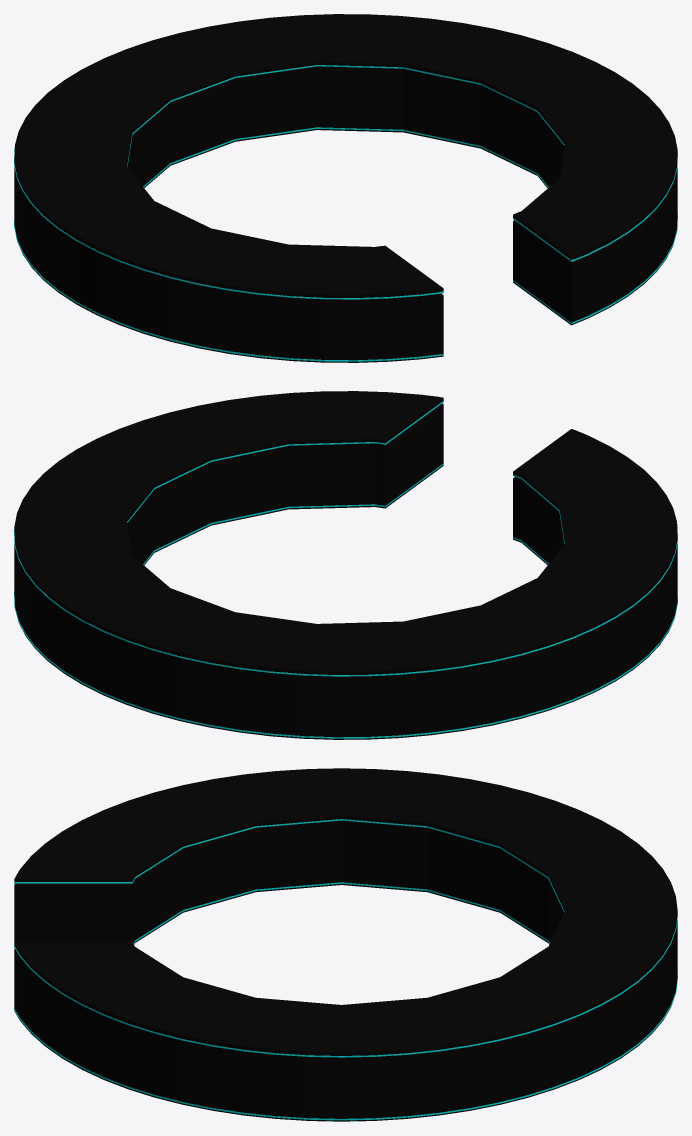
File: CircleTable.a93f86d6.dae
3 views of the same model, one above another, from view 1: azimuth 30°, elevation 25°; view 2: azimuth 150°, elevation 25°; view 3: azimuth 270°, elevation 25° (orthographic).
Parts seen in each view (by area): view 1: TableSurface, Table_base, TableAmbientTopOutside, TableAmbientBottomOutside, TableAmbientTopInside, TableAmbientBottomInside; view 2: TableSurface, Table_base, TableAmbientTopOutside, TableAmbientBottomOutside, TableAmbientTopInside, TableAmbientBottomInside; view 3: TableSurface, Table_base, TableAmbientBottomOutside, TableAmbientTopOutside, TableAmbientTopInside, TableAmbientBottomInside.
Part boxes in pixels (left/top/right/bottom): TableSurface: left=14, top=14, right=677, bottom=297; Table_base: left=14, top=63, right=677, bottom=362; TableAmbientTopOutside: left=14, top=150, right=677, bottom=299; TableAmbientBottomOutside: left=14, top=215, right=677, bottom=361; TableAmbientTopInside: left=127, top=65, right=573, bottom=291; TableAmbientBottomInside: left=143, top=127, right=571, bottom=323; TableSurface: left=14, top=391, right=677, bottom=674; Table_base: left=14, top=403, right=677, bottom=739; TableAmbientTopOutside: left=14, top=401, right=677, bottom=676; TableAmbientBottomOutside: left=14, top=463, right=677, bottom=738; TableAmbientTopInside: left=127, top=401, right=564, bottom=543; TableAmbientBottomInside: left=143, top=463, right=548, bottom=564; TableSurface: left=14, top=768, right=677, bottom=1055; Table_base: left=14, top=817, right=677, bottom=1121; TableAmbientBottomOutside: left=14, top=976, right=677, bottom=1120; TableAmbientTopOutside: left=14, top=882, right=677, bottom=1057; TableAmbientTopInside: left=14, top=819, right=564, bottom=912; TableAmbientBottomInside: left=133, top=882, right=549, bottom=944.
Bounding box in the file's own units: 9.01 × 8.89 × 1.02.
